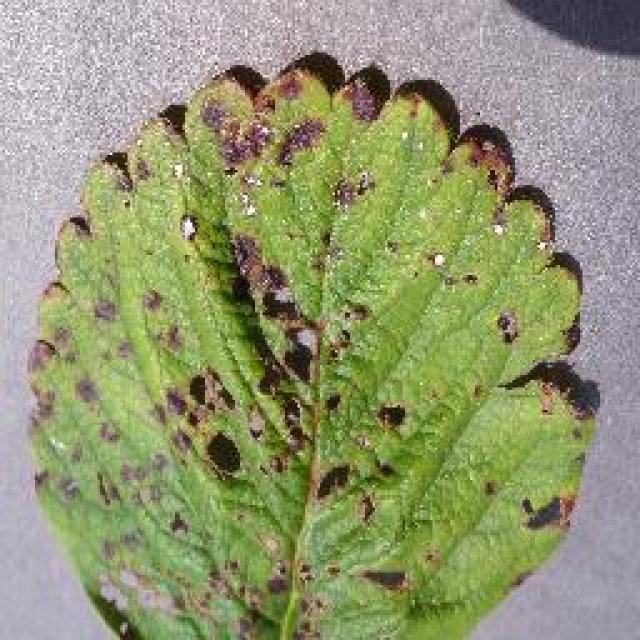Strawberry___Leaf_scorch: (8, 25, 612, 640)
